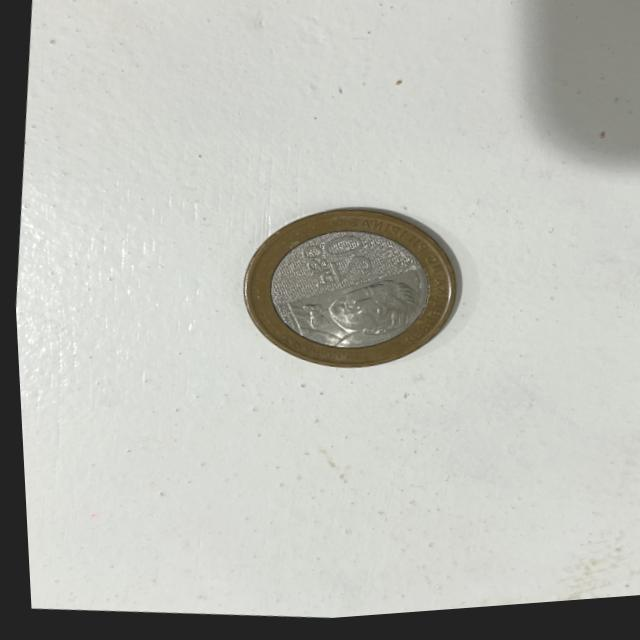20_New_Front: (286, 222, 384, 303)
